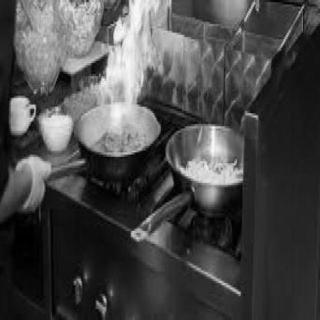Fire: (94, 0, 174, 133)
